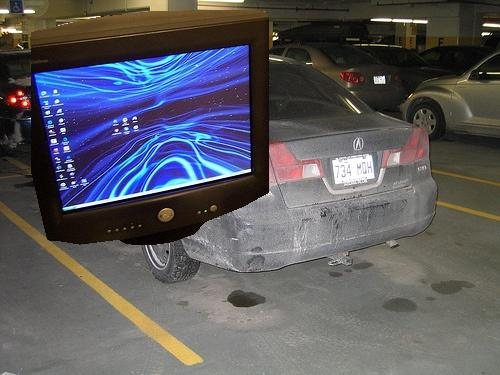tampered: (32, 11, 269, 245)
